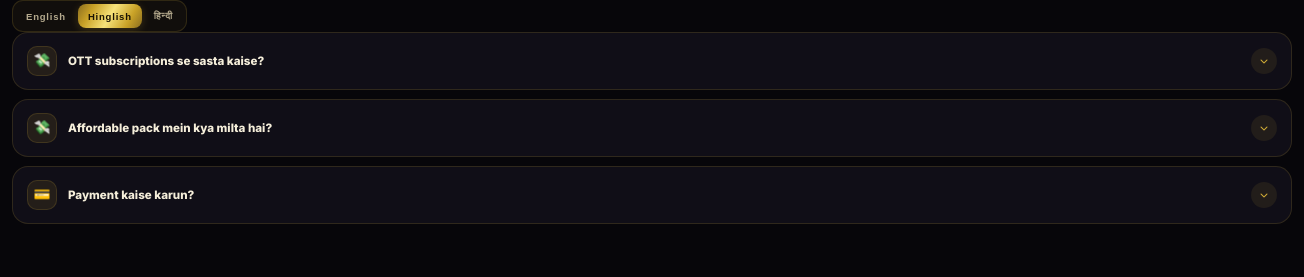
Test: FAQ › opens and closes an answer
Click the button "English": (46, 16) [16,4,76,28]
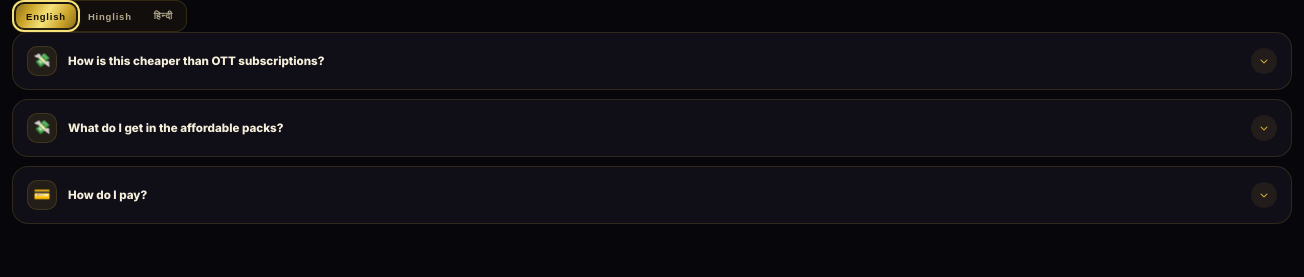
Click the button "💸 How is this cheaper than OTT subscriptions?": (196, 61) [13,33,1291,89]
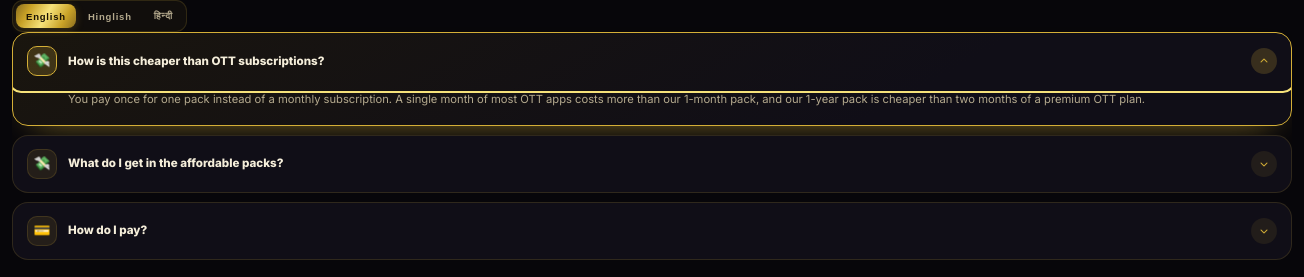
Expected: the button "💸 How is this cheaper than OTT subscriptions?" is expanded
Expected: the text "You pay once for one pack" is shown, [68,92,1145,106]
Click the button "💸 How is this cheaper than OTT subscriptions?": (196, 61) [13,33,1291,89]
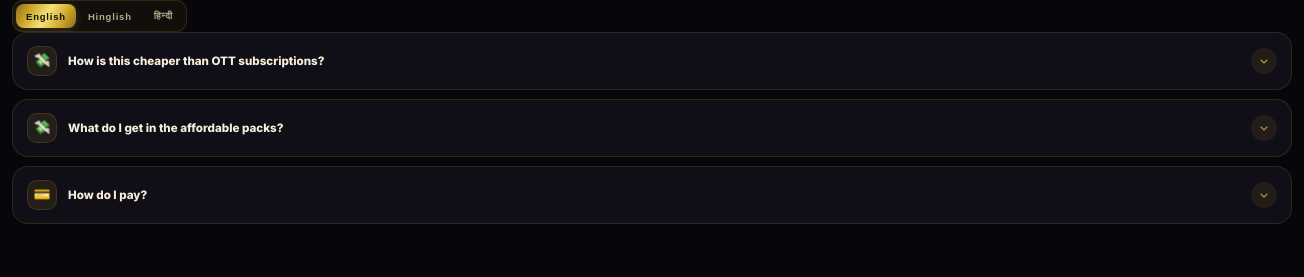
Expected: the button "💸 How is this cheaper than OTT subscriptions?" is collapsed, [13,33,1291,89]
